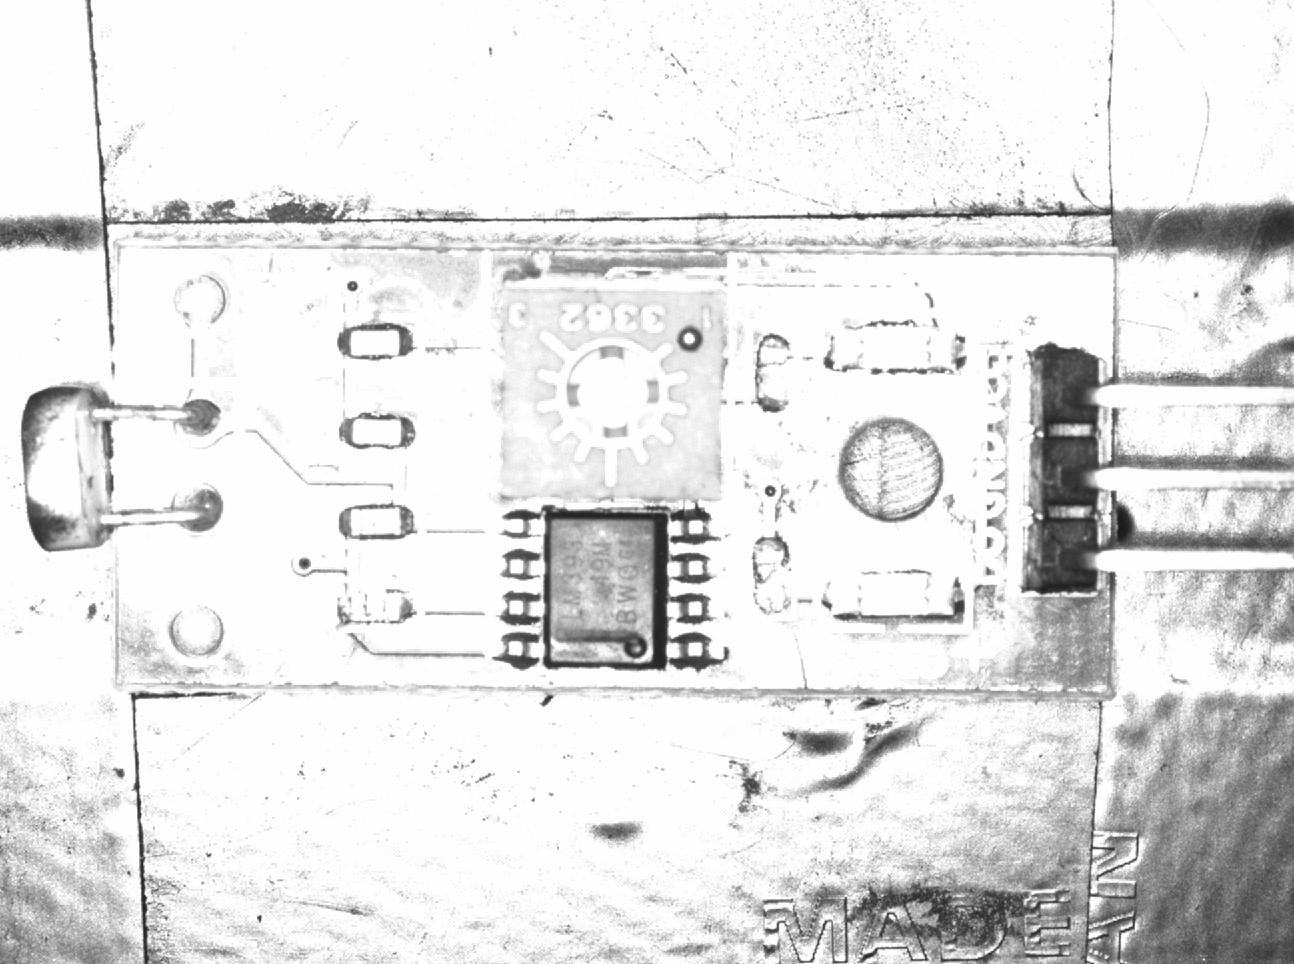miss: (748, 320, 800, 424), (329, 580, 426, 633), (746, 528, 800, 621)
ok: (329, 406, 421, 459), (329, 498, 426, 548), (333, 320, 425, 369)
